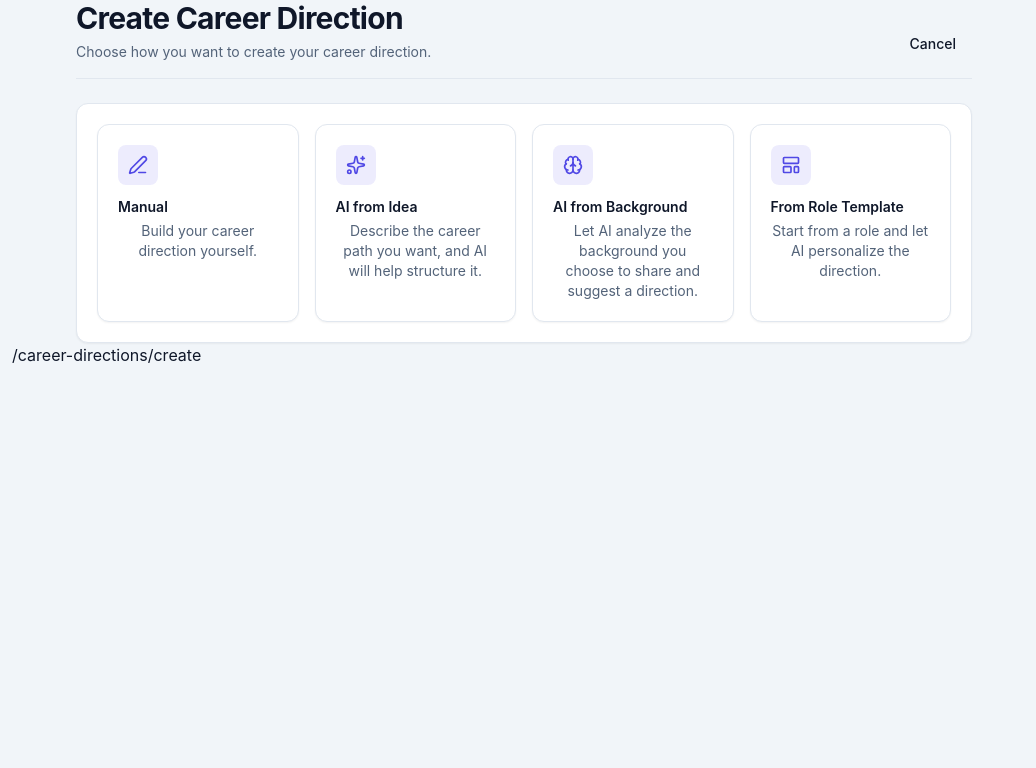
Test case: CareerDirectionCreatePage › AI from Idea navigates to the idea input step
Click the radio button labelled "AI from Idea" at (415, 223), box [314, 124, 516, 322]
(page scrolled)
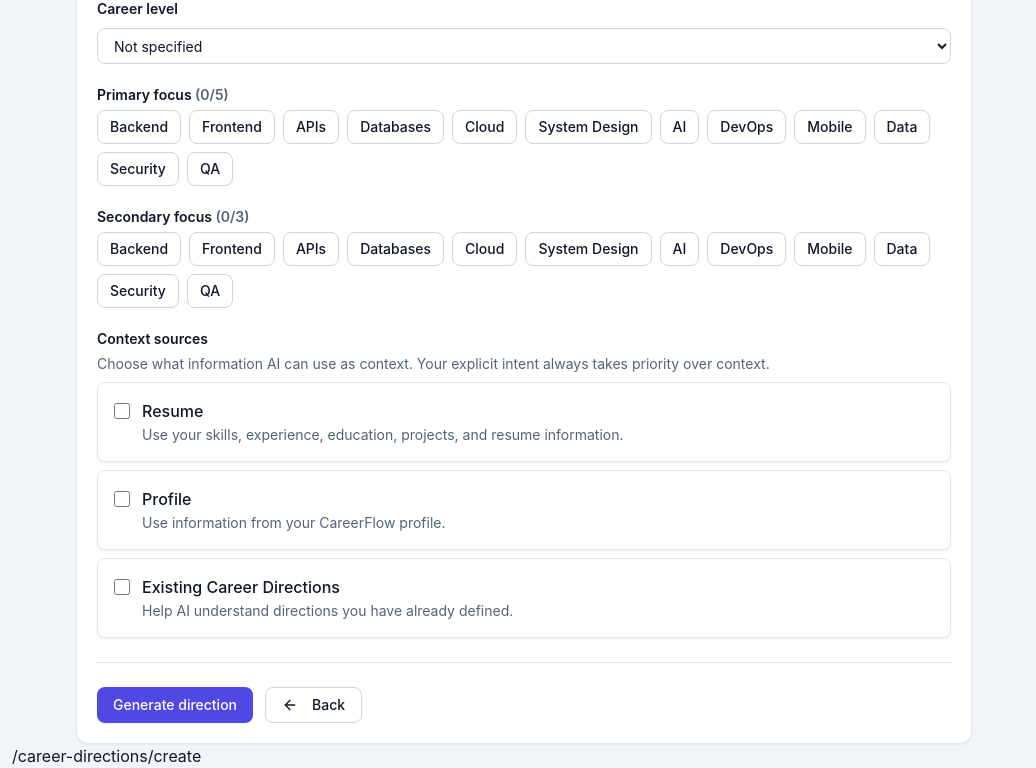
Expected: the button "Generate direction" is shown, [97, 687, 253, 723]
